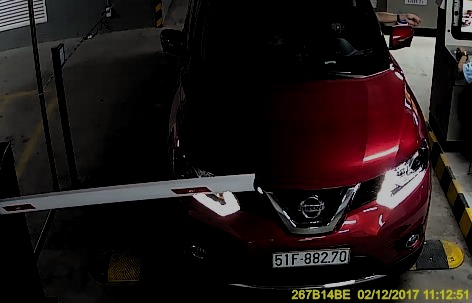plate: (270, 243, 354, 265)
